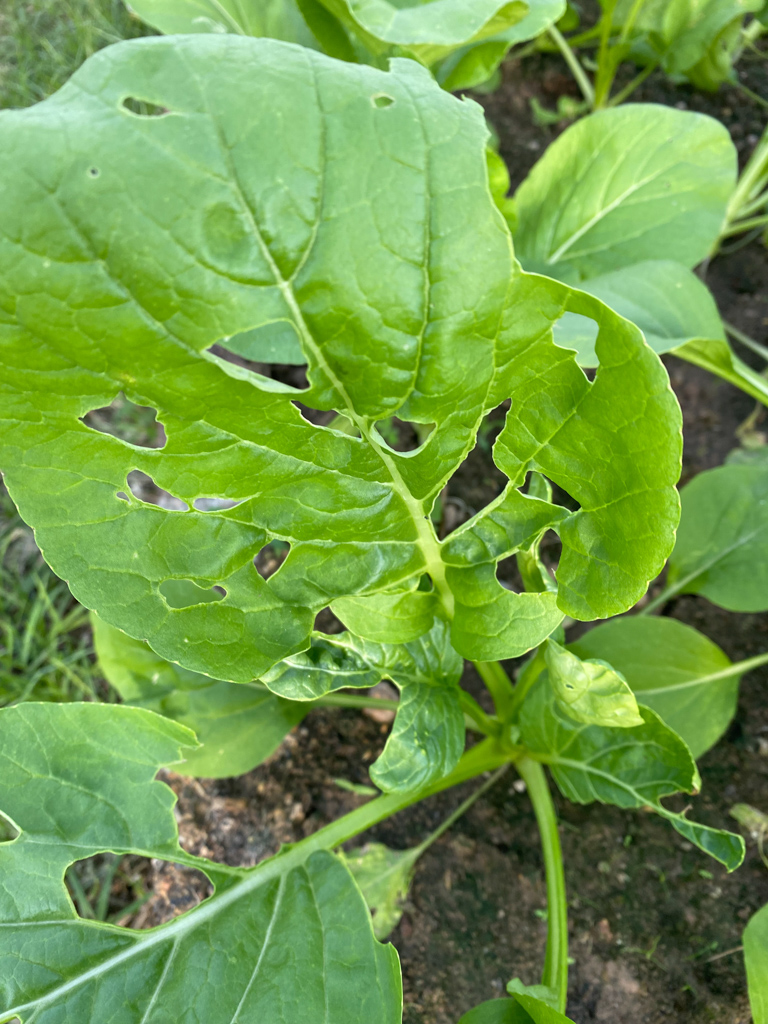Leaf Curl Disease: (217, 611, 478, 787), (521, 639, 671, 804)
